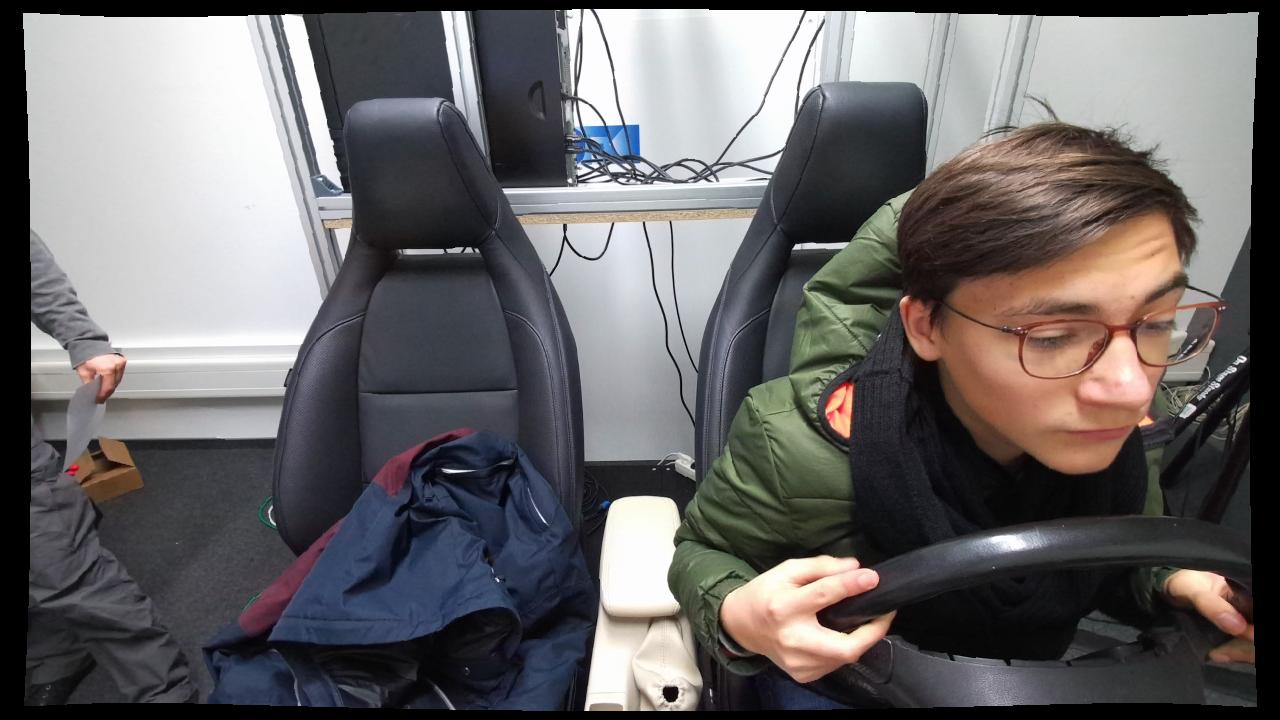Distracted: (666, 117, 1237, 713)
